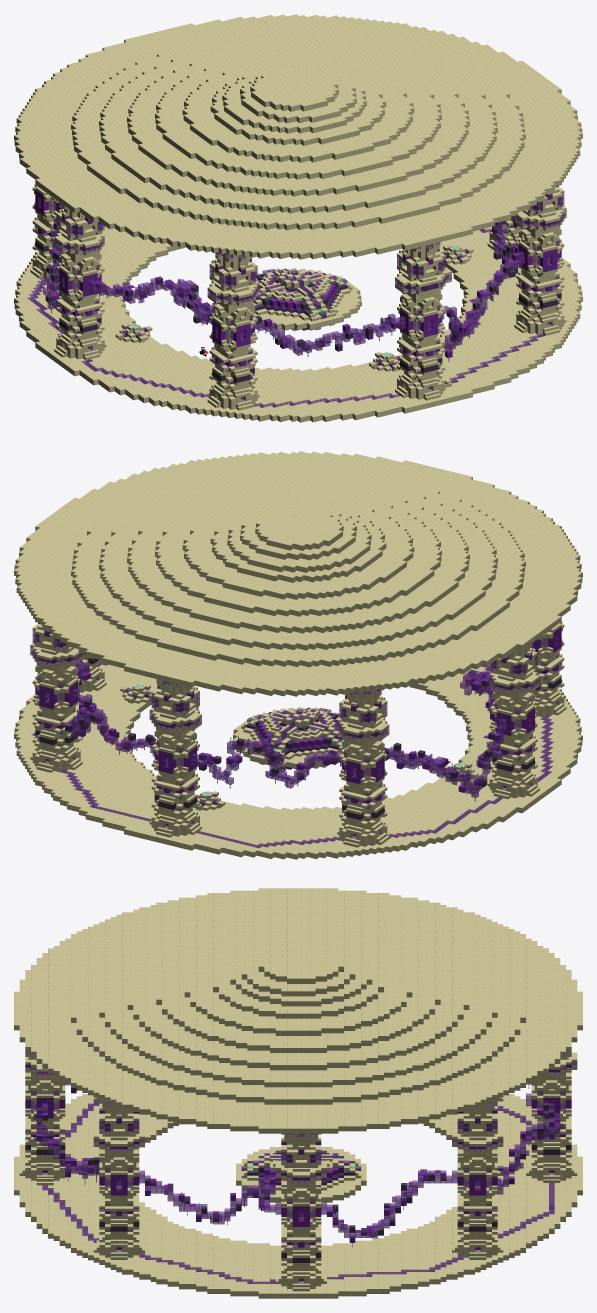
The model's file is diamond.glb.
The picture shows the model from 3 angles, top to bottom: view 1: azimuth 30°, elevation 25°; view 2: azimuth 150°, elevation 25°; view 3: azimuth 270°, elevation 25°; orthographic projection.
Parts seen in each view (by area): view 1: minecraft:purple_stained_glass_pane; view 2: minecraft:purple_stained_glass_pane; view 3: minecraft:purple_stained_glass_pane.
Part boxes in pixels (bbox=[...]): minecraft:purple_stained_glass_pane: bbox=[14, 14, 582, 422]; minecraft:purple_stained_glass_pane: bbox=[14, 451, 582, 859]; minecraft:purple_stained_glass_pane: bbox=[14, 888, 582, 1298].
Size of the model in its own units: 100 by 46 by 100.
Materials: 14 (14 with a texture image).
